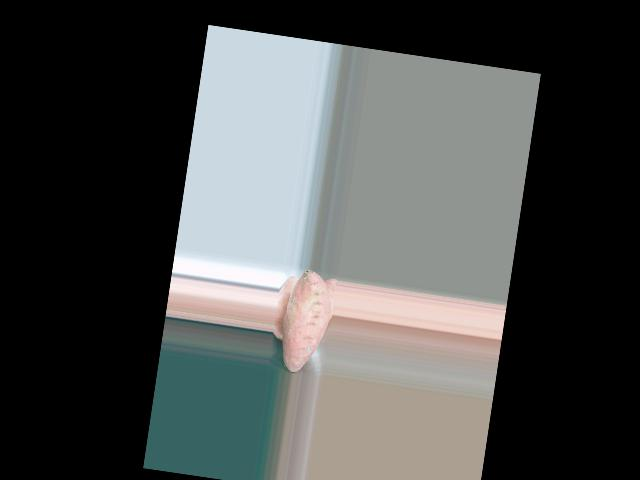sweet_potato: (281, 267, 332, 374)
